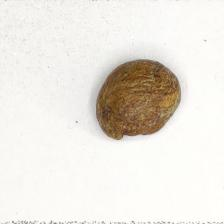NG: (158, 73, 183, 126), (95, 121, 153, 140)
